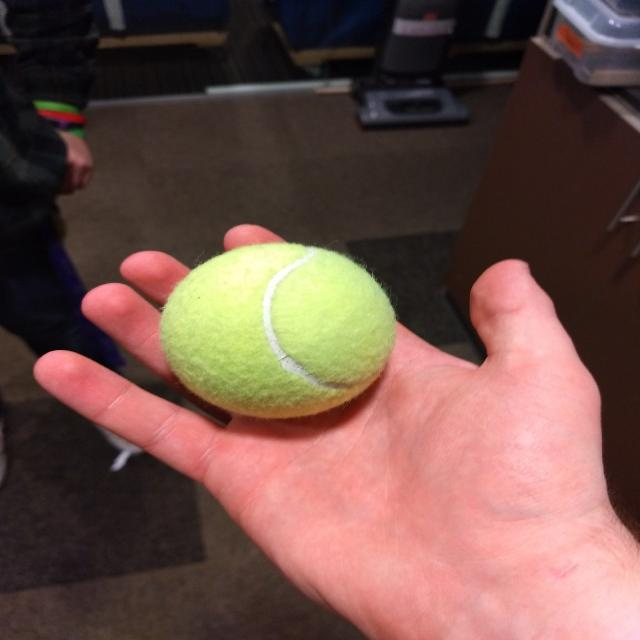tennis-ball: (158, 243, 406, 421)
